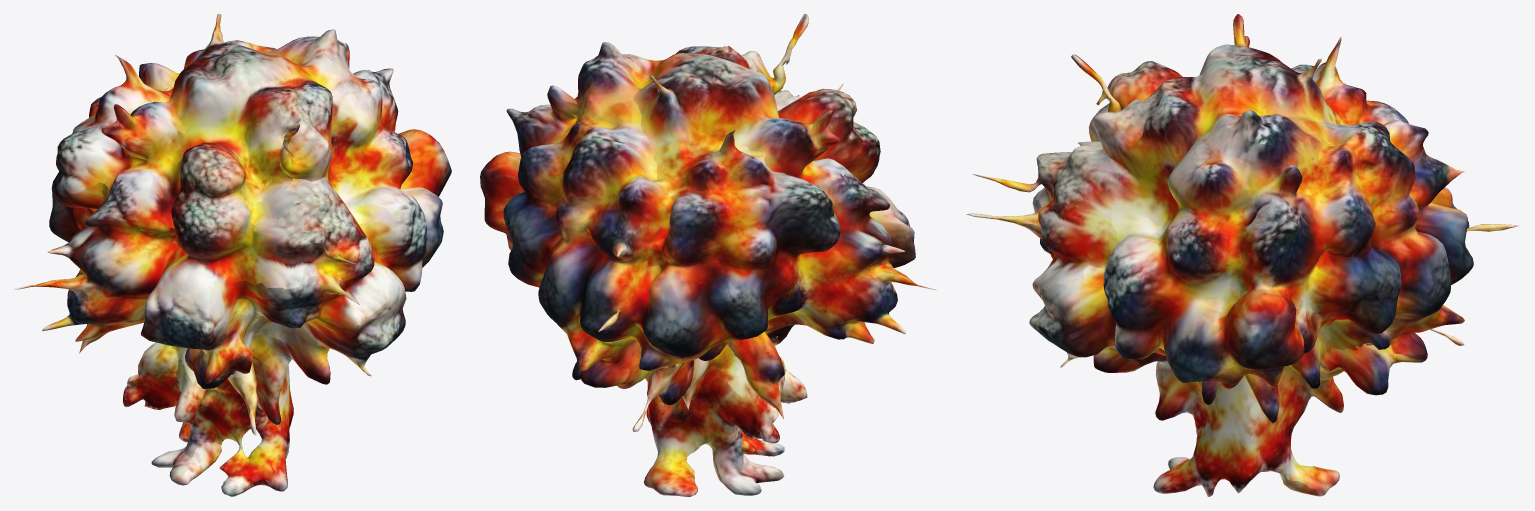
The picture shows the model from 3 angles, left to right: view 1: azimuth 30°, elevation 25°; view 2: azimuth 150°, elevation 25°; view 3: azimuth 270°, elevation 25°; orthographic projection. The views are drawn at different scales.
Visible parts, largest first — view 1: Object_4; view 2: Object_4; view 3: Object_4.
Part boxes in pixels (box(x1,y1,x2,y2)): Object_4: box(14, 14, 451, 496); Object_4: box(480, 14, 936, 496); Object_4: box(966, 14, 1519, 496).
Size of the model in its own units: 0.7822 by 0.7001 by 0.7998.
1 material, 1 textured.
